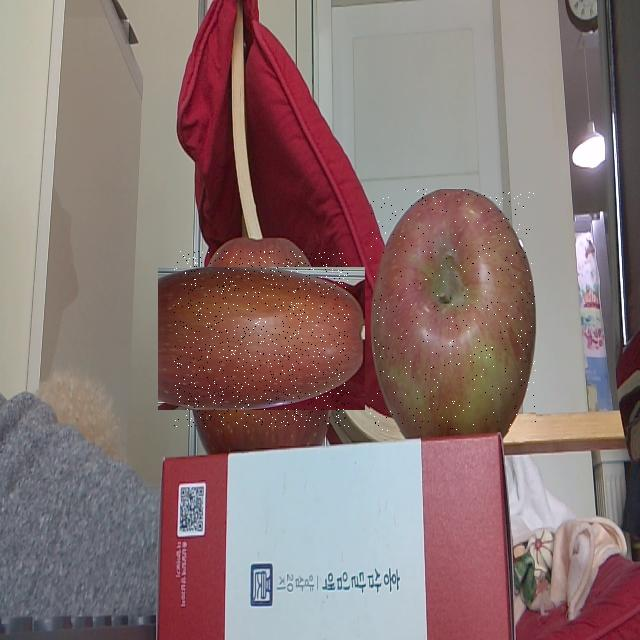apple: (370, 190, 536, 432), (174, 251, 349, 427)
